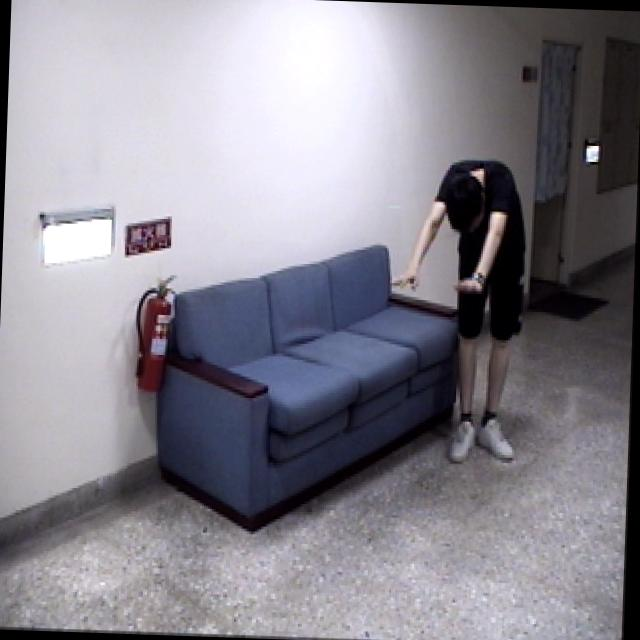bend: (380, 151, 533, 468)
